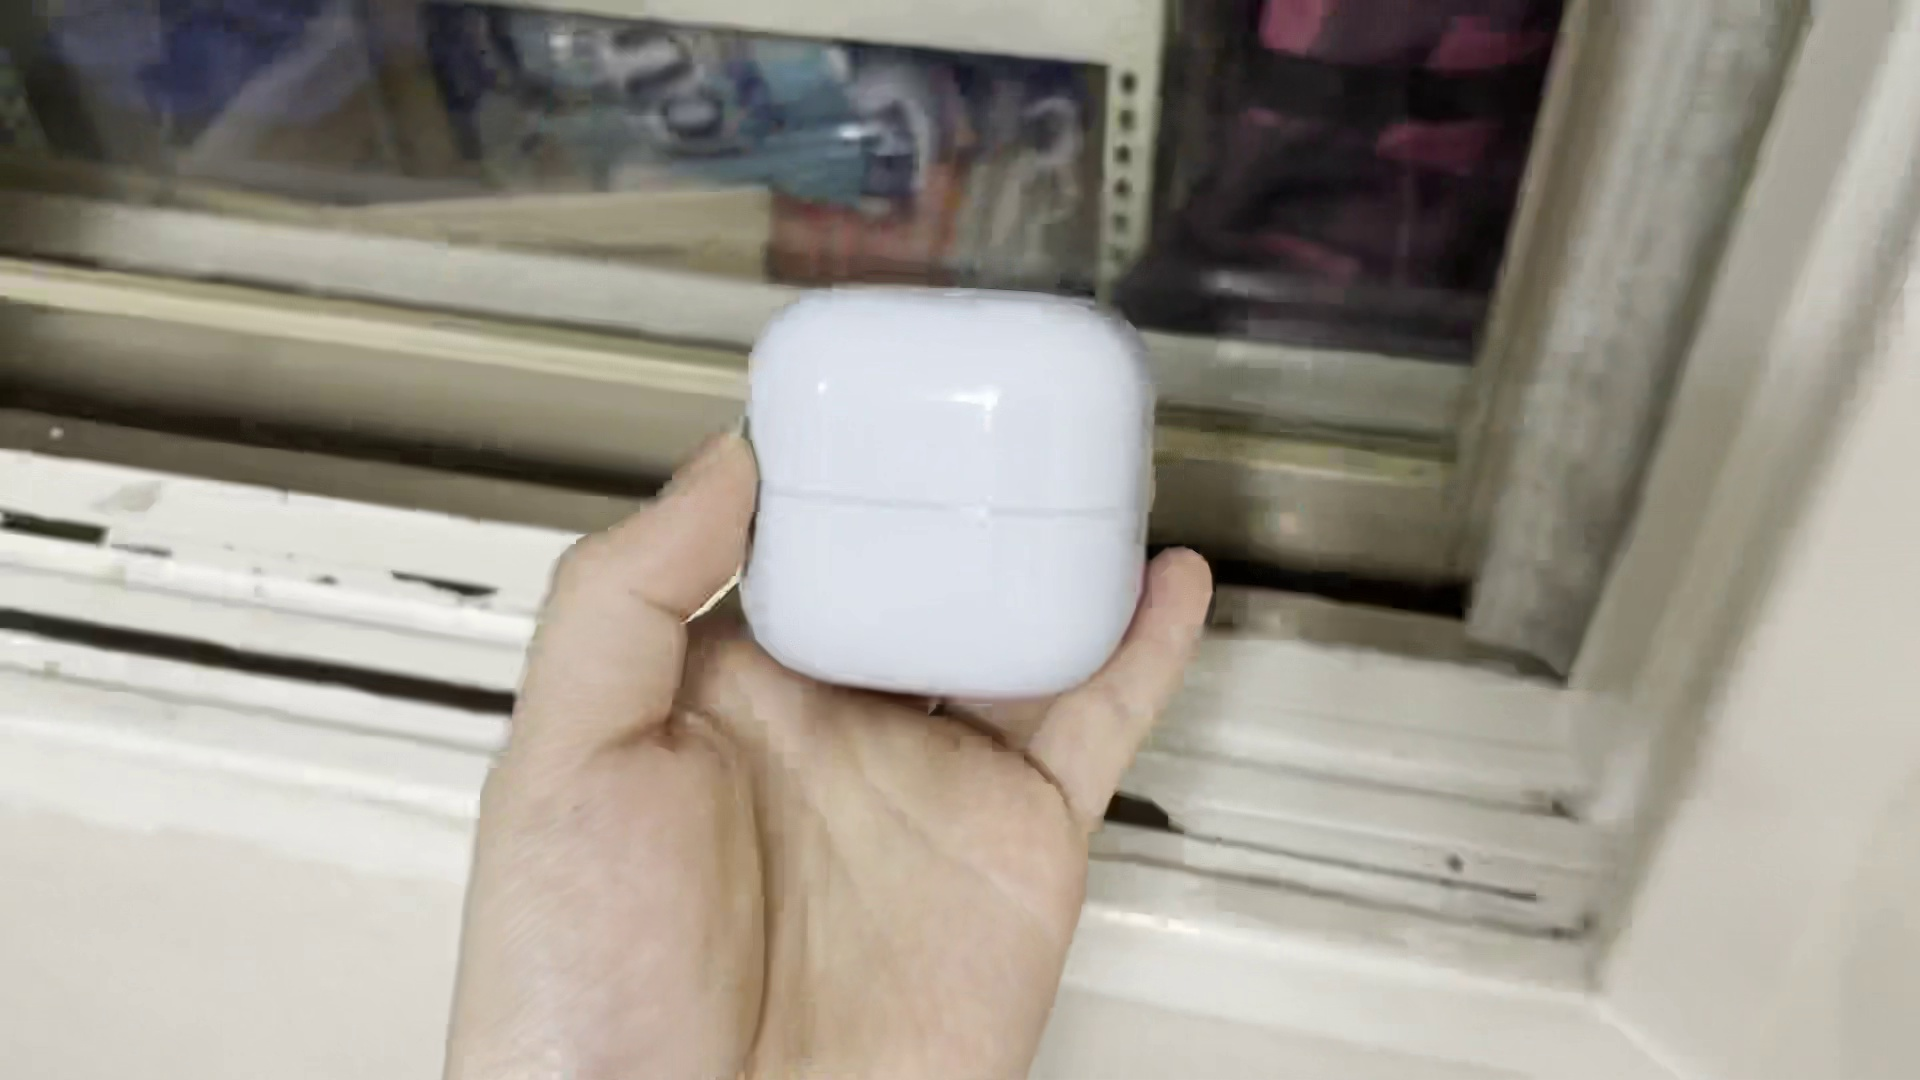cream: (746, 280, 1154, 702)
